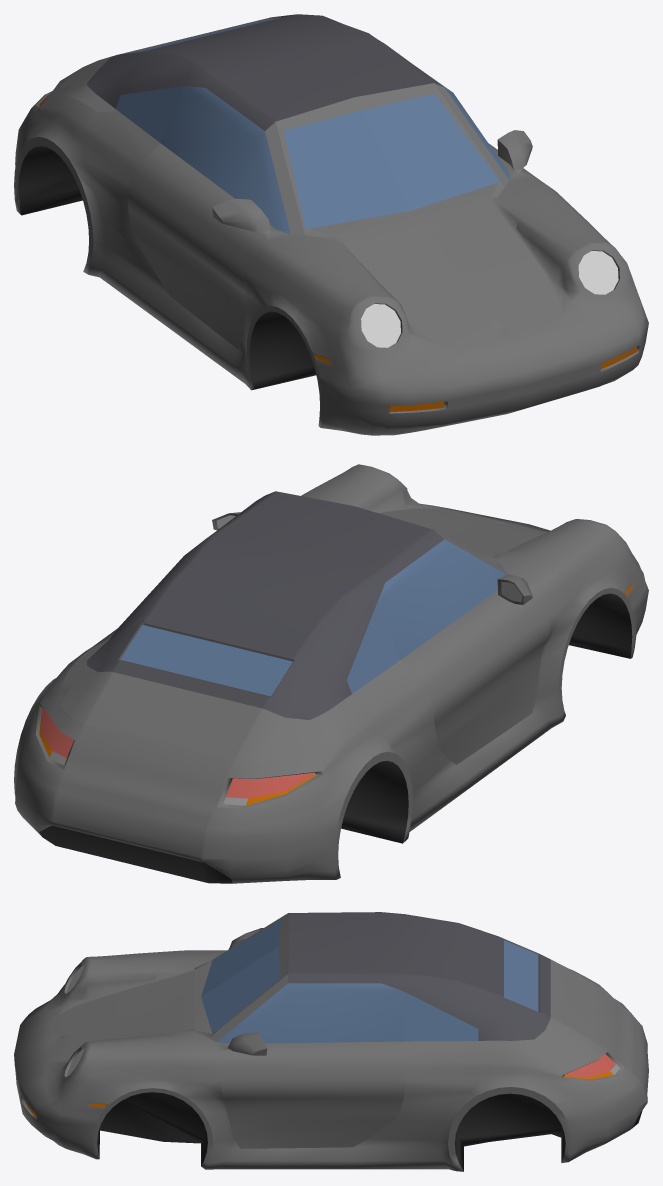
Rendered from Sportscar2.fbx.
The picture shows the model from 3 angles, top to bottom: view 1: azimuth 30°, elevation 25°; view 2: azimuth 150°, elevation 25°; view 3: azimuth 270°, elevation 25°; orthographic projection. The views are drawn at different scales.
Parts seen in each view (by area): view 1: Body, Roof, Trunk, Door_Right, Window_Right, WindowSide_Right, Door_Left, RoofTrunk; view 2: Body, Roof, Door_Right, RoofTrunk, Window_Right, Trunk, WindowSide_Right; view 3: Body, Roof, Door_Left, Window_Left, Trunk, RoofTrunk, WindowSide_Left.
Boxes of the visible parts, box(x1,y1,x2,y2) form: Body: box(14, 68, 648, 435); Roof: box(87, 14, 443, 130); Trunk: box(347, 207, 561, 352); Door_Right: box(127, 144, 290, 349); Window_Right: box(161, 86, 290, 233); WindowSide_Right: box(116, 86, 183, 143); Door_Left: box(488, 130, 539, 180); RoofTrunk: box(60, 56, 115, 111); Body: box(14, 464, 648, 883); Roof: box(87, 491, 444, 719); Door_Right: box(400, 574, 550, 764); RoofTrunk: box(60, 639, 355, 762); Window_Right: box(377, 539, 506, 659); Trunk: box(380, 508, 545, 554); WindowSide_Right: box(347, 603, 399, 693); Body: box(14, 913, 648, 1171); Roof: box(288, 912, 550, 1040); Door_Left: box(216, 1032, 405, 1148); Window_Left: box(217, 983, 404, 1043); Trunk: box(44, 974, 185, 1061); RoofTrunk: box(478, 959, 595, 1057); WindowSide_Left: box(404, 992, 478, 1041).
Size of the model in its own units: 2.04 by 1.32 by 4.46.
